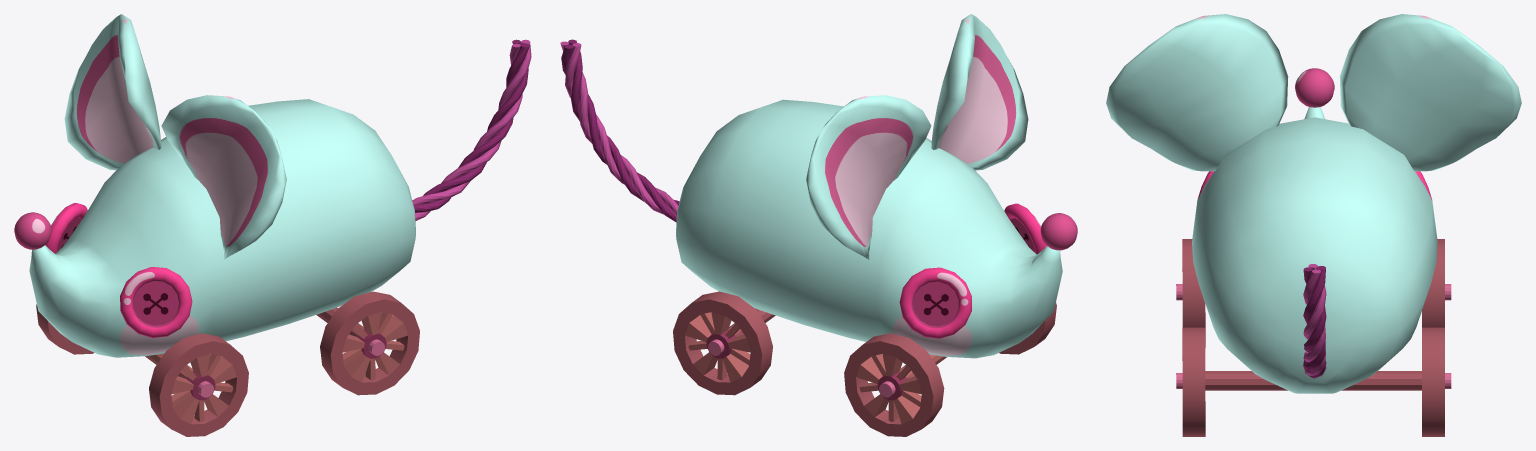
The model's file is AliceRunBomb.fbx.
The picture shows the model from 3 angles, left to right: view 1: azimuth 30°, elevation 25°; view 2: azimuth 150°, elevation 25°; view 3: azimuth 270°, elevation 25°; orthographic projection. The views are drawn at different scales.
Visible parts, largest first — view 1: nezumi; view 2: nezumi; view 3: nezumi.
Part boxes in pixels (left/top/right/bottom): nezumi: left=14, top=14, right=531, bottom=436; nezumi: left=560, top=14, right=1077, bottom=436; nezumi: left=1106, top=14, right=1521, bottom=436.
Size of the model in its own units: 0.00694 by 0.0115 by 0.00758.
9 materials, 9 textured.
